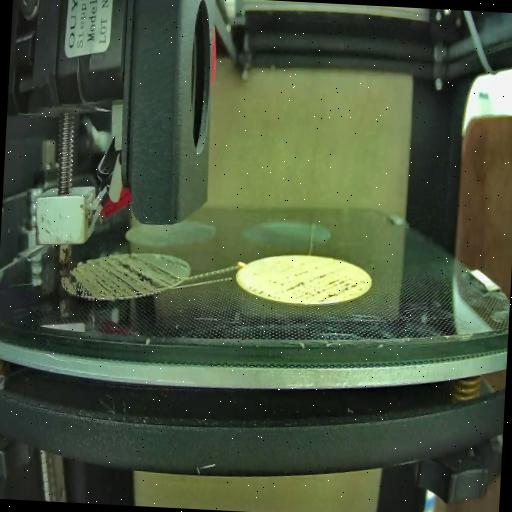under_extrusion: (62, 248, 185, 306), (269, 272, 364, 307), (246, 284, 264, 297)
